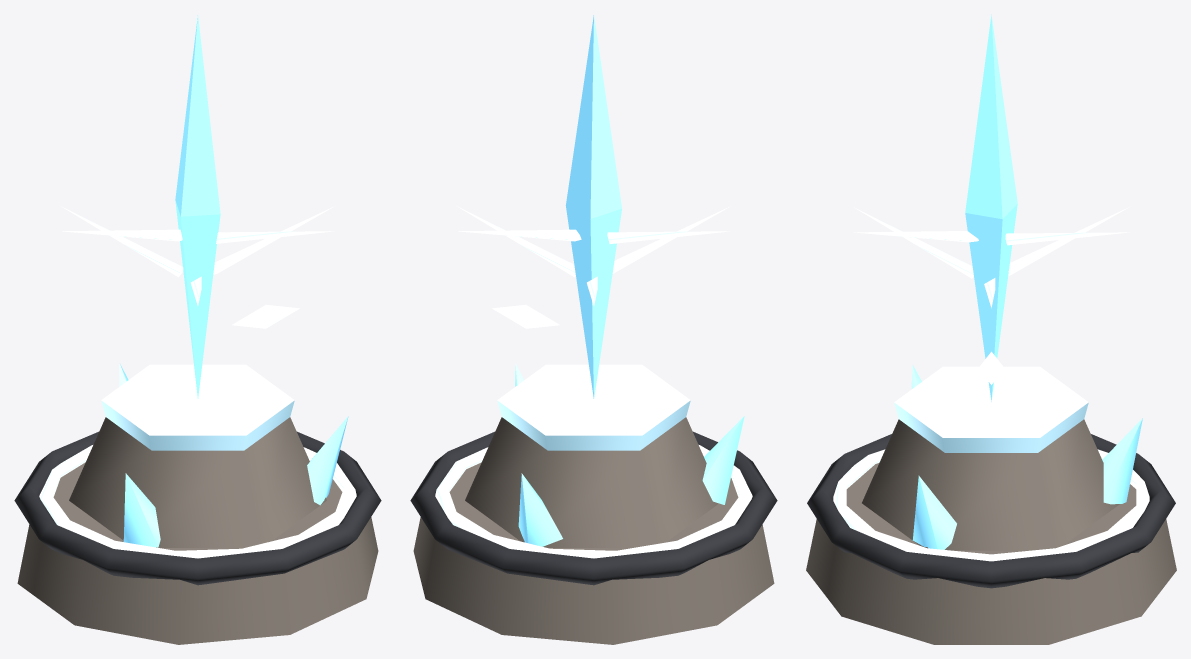
File: tower_freeze_frostField.glb
The picture shows the model from 3 angles, left to right: view 1: azimuth 30°, elevation 25°; view 2: azimuth 150°, elevation 25°; view 3: azimuth 270°, elevation 25°; orthographic projection.
Visible parts, largest first — view 1: base, pedestal, pedestal_frost, base_rim, crystal, aura_ring, side_crystal_1, side_crystal_0, emitter, needle_4, needle_3, needle_0 (+1 smaller); view 2: base, pedestal, pedestal_frost, base_rim, crystal, aura_ring, side_crystal_1, side_crystal_2, emitter, needle_5, needle_3, needle_0 (+1 smaller); view 3: base, pedestal, pedestal_frost, base_rim, crystal, aura_ring, side_crystal_0, side_crystal_2, needle_5, needle_1, needle_2, needle_4.
Part boxes in pixels (x1=…): base: x1=17, y1=462, x2=378, y2=644; pedestal: x1=69, y1=417, x2=326, y2=547; pedestal_frost: x1=101, y1=364, x2=294, y2=450; base_rim: x1=14, y1=431, x2=381, y2=585; crystal: x1=175, y1=15, x2=220, y2=398; aura_ring: x1=39, y1=445, x2=356, y2=558; side_crystal_1: x1=123, y1=473, x2=160, y2=547; side_crystal_0: x1=307, y1=416, x2=348, y2=505; emitter: x1=231, y1=304, x2=299, y2=328; needle_4: x1=61, y1=206, x2=183, y2=277; needle_3: x1=62, y1=229, x2=182, y2=241; needle_0: x1=213, y1=206, x2=333, y2=274; base: x1=413, y1=462, x2=774, y2=644; pedestal: x1=465, y1=417, x2=718, y2=547; pedestal_frost: x1=497, y1=364, x2=690, y2=450; base_rim: x1=410, y1=431, x2=777, y2=585; crystal: x1=565, y1=15, x2=621, y2=398; aura_ring: x1=435, y1=445, x2=752, y2=558; side_crystal_1: x1=702, y1=416, x2=744, y2=504; side_crystal_2: x1=518, y1=473, x2=562, y2=546; emitter: x1=492, y1=304, x2=560, y2=328; needle_5: x1=458, y1=229, x2=581, y2=241; needle_3: x1=607, y1=231, x2=729, y2=243; needle_0: x1=457, y1=206, x2=575, y2=277; base: x1=806, y1=463, x2=1176, y2=644; pedestal: x1=862, y1=419, x2=1119, y2=550; pedestal_frost: x1=894, y1=366, x2=1088, y2=452; base_rim: x1=807, y1=434, x2=1175, y2=588; crystal: x1=965, y1=14, x2=1017, y2=401; aura_ring: x1=833, y1=449, x2=1149, y2=561; side_crystal_0: x1=912, y1=475, x2=956, y2=549; side_crystal_2: x1=1102, y1=418, x2=1142, y2=504; needle_5: x1=1005, y1=232, x2=1129, y2=245; needle_1: x1=853, y1=231, x2=978, y2=242; needle_2: x1=854, y1=207, x2=973, y2=278; needle_4: x1=1008, y1=207, x2=1128, y2=275.
Bounding box in the file's own units: 0.398 × 0.662 × 0.4.
